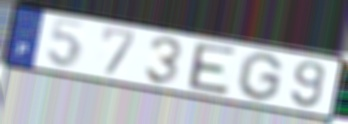3: (144, 36, 185, 86)
5: (45, 16, 88, 71)
7: (99, 24, 138, 78)
9: (290, 61, 327, 109)
E: (187, 41, 238, 97)
G: (234, 51, 286, 103)
